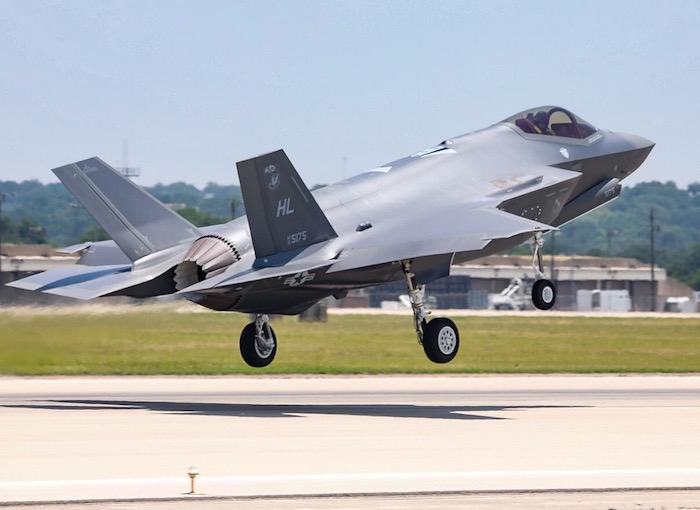F-35 Lightning: (11, 42, 658, 361)
